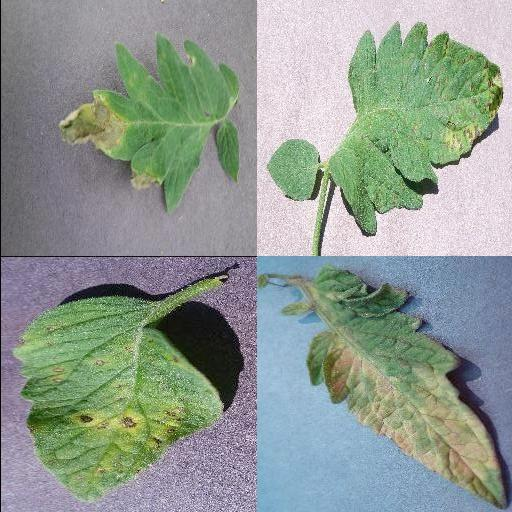Healthy: (267, 140, 319, 202)
Late Blight: (52, 40, 240, 216)
Leaf Mold: (304, 268, 508, 510)
Septoria: (13, 293, 225, 499), (330, 21, 504, 236)
